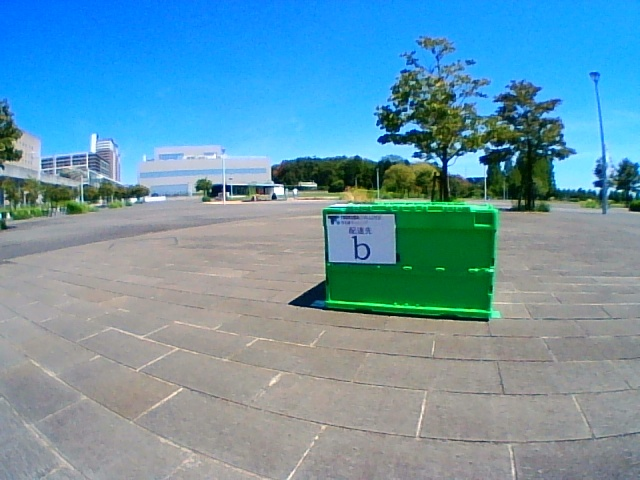green_box: (324, 202, 495, 320)
tag_b: (326, 215, 396, 264)
